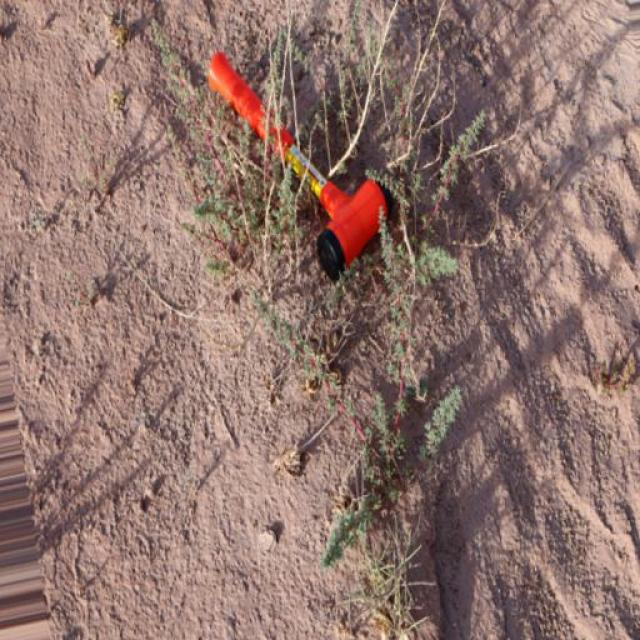mallet: (204, 48, 390, 282)
